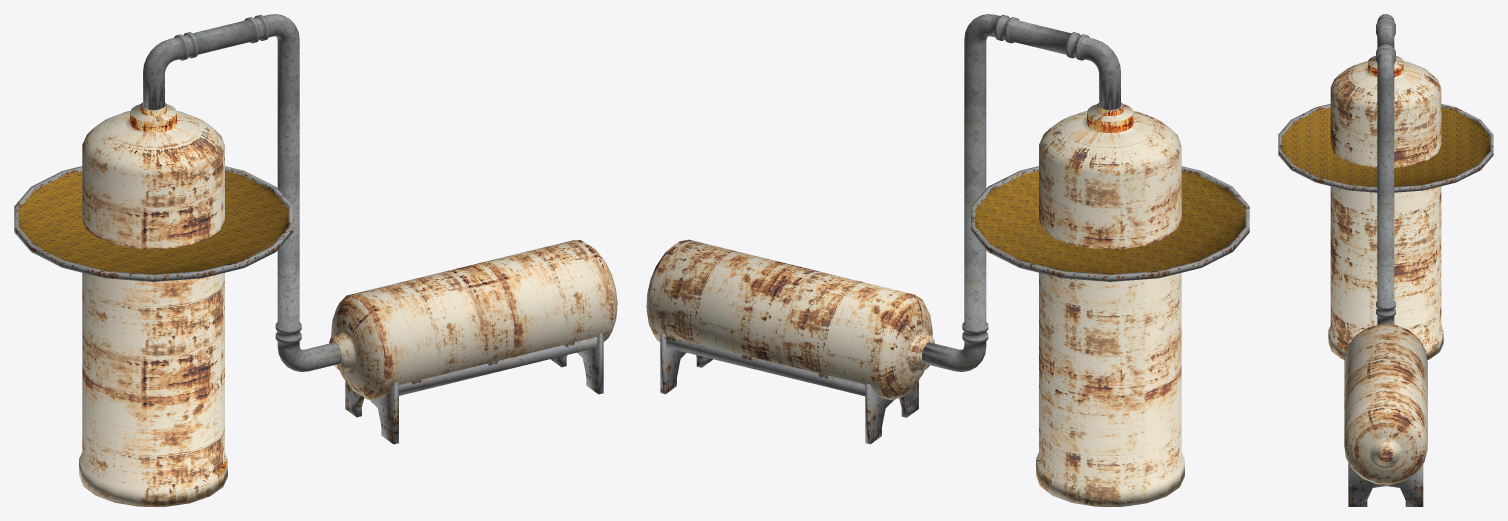
Rendered from tank_2_lod1.obj.
3 views of the same model, side by side, from view 1: azimuth 30°, elevation 25°; view 2: azimuth 150°, elevation 25°; view 3: azimuth 270°, elevation 25° (orthographic). The views are drawn at different scales.
Parts seen in each view (by area): view 1: tank_2_lod1.obj; view 2: tank_2_lod1.obj; view 3: tank_2_lod1.obj.
Boxes of the visible parts, x1=… form: tank_2_lod1.obj: x1=14, y1=14, x2=617, y2=506; tank_2_lod1.obj: x1=646, y1=14, x2=1249, y2=506; tank_2_lod1.obj: x1=1278, y1=14, x2=1493, y2=506.
Bounding box in the file's own units: 22.9 × 16.54 × 9.55.
Materials: 4 (4 with a texture image).
